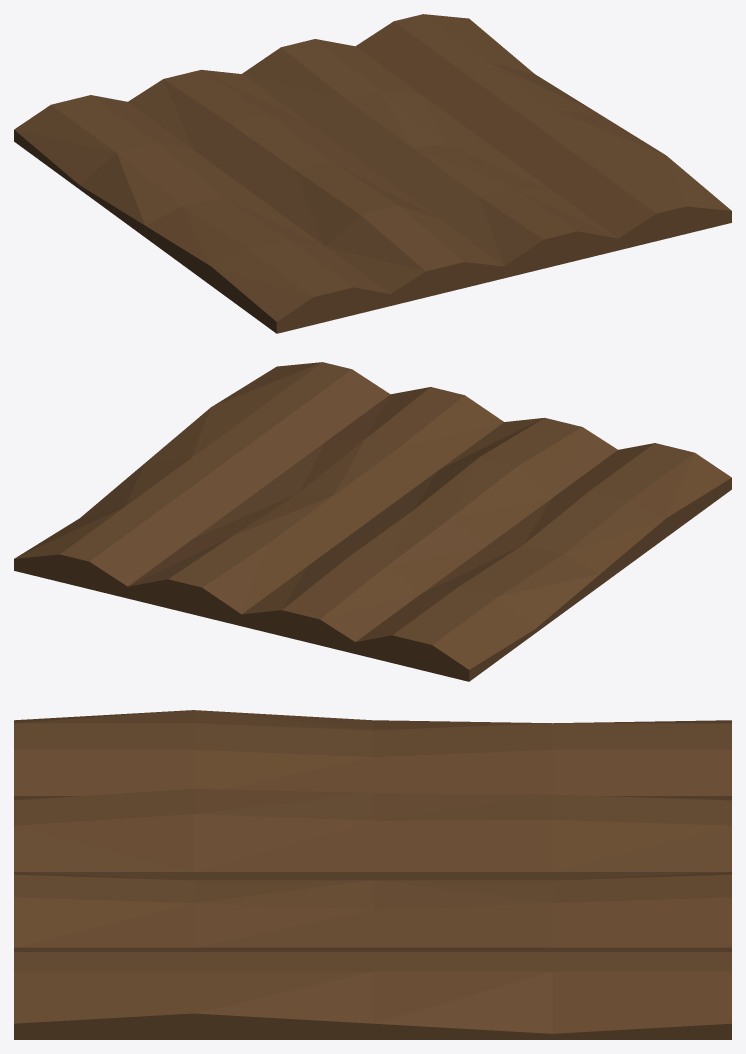
The model's file is farm-farm-flower-bed.glb.
The picture shows the model from 3 angles, top to bottom: view 1: azimuth 30°, elevation 25°; view 2: azimuth 150°, elevation 25°; view 3: azimuth 270°, elevation 25°; orthographic projection. The views are drawn at different scales.
Parts seen in each view (by area): view 1: farm-flower-bed; view 2: farm-flower-bed; view 3: farm-flower-bed.
Boxes of the visible parts, box(x1,y1,x2,y2) form: farm-flower-bed: box(14, 14, 731, 333); farm-flower-bed: box(14, 362, 731, 681); farm-flower-bed: box(14, 710, 731, 1039).
Size of the model in its own units: 4 by 0.2897 by 4.
